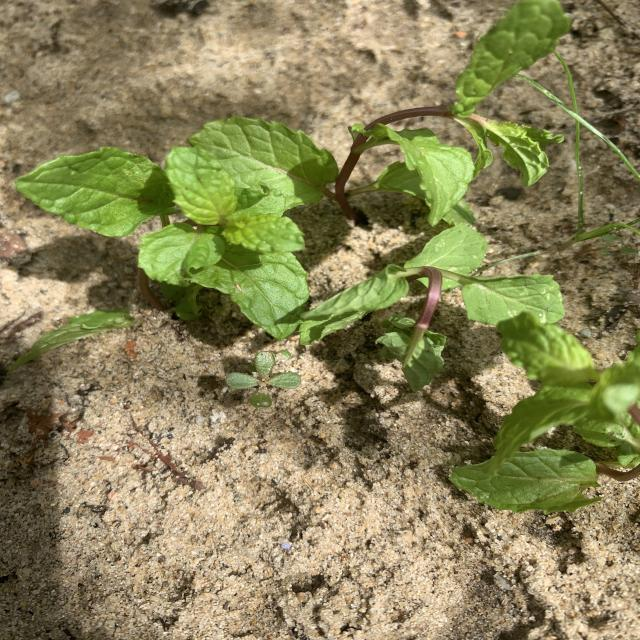crop: (189, 0, 570, 226), (10, 147, 309, 371), (300, 225, 555, 390), (450, 312, 640, 512)
weed: (561, 120, 632, 250), (226, 350, 301, 408), (596, 233, 638, 256), (560, 58, 576, 105)
